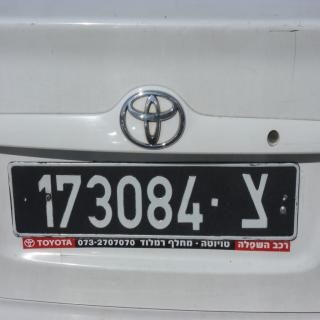license: (12, 163, 300, 250)
